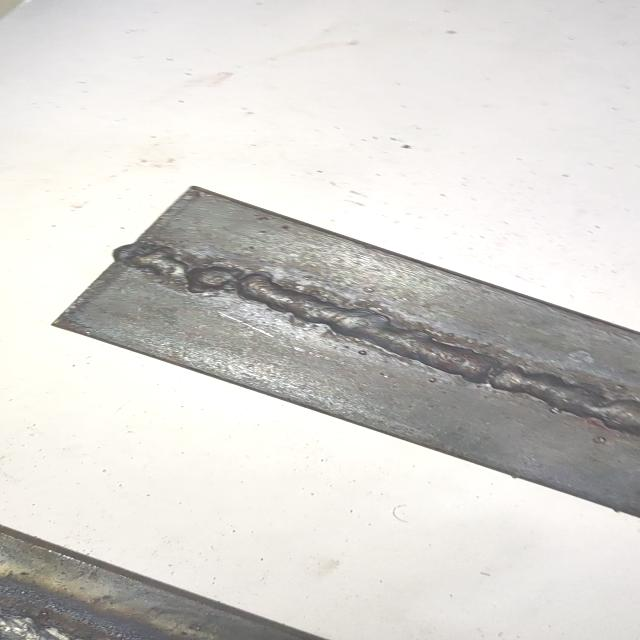Bad Weld: (110, 242, 640, 452)
Defect: (119, 238, 268, 308)
